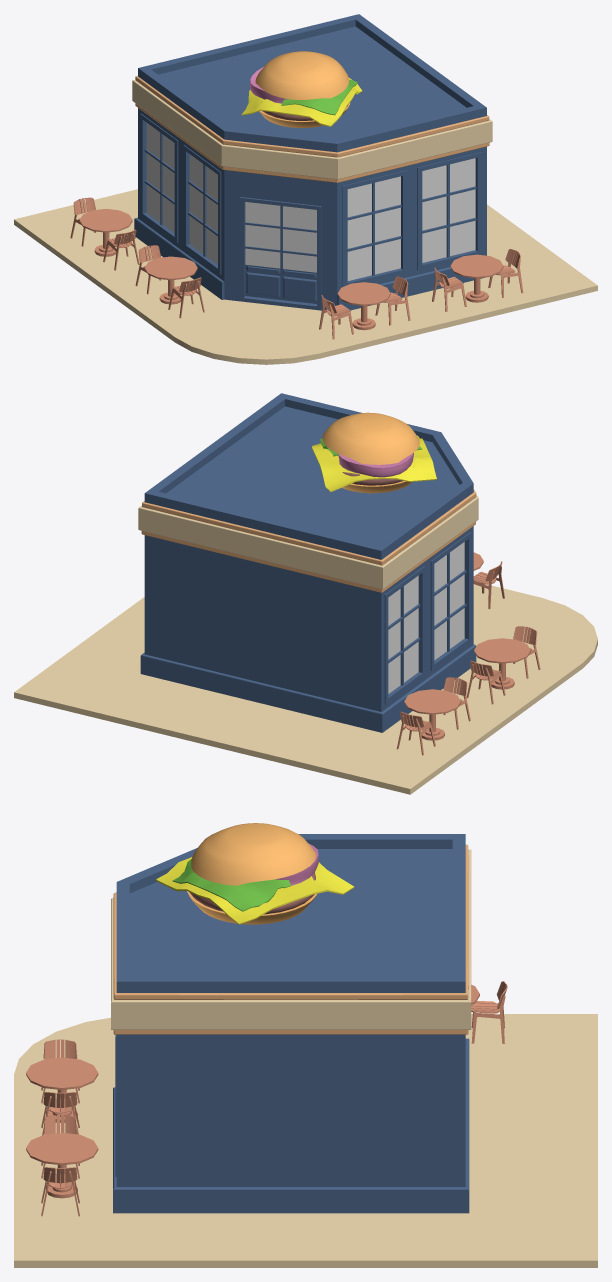
File: commercial-building-fastfood-shop.fbx
3 renders of one model, top to bottom at view 1: azimuth 30°, elevation 25°; view 2: azimuth 150°, elevation 25°; view 3: azimuth 270°, elevation 25°, orthographic. The views are drawn at different scales.
Visible parts, largest first — view 1: commercial-building-fastfood-shop, fastfood-shop-hamburger; view 2: commercial-building-fastfood-shop, fastfood-shop-hamburger; view 3: commercial-building-fastfood-shop, fastfood-shop-hamburger.
Boxes of the visible parts, box(x1,y1,x2,y2) form: commercial-building-fastfood-shop: box(14, 14, 597, 364); fastfood-shop-hamburger: box(241, 51, 362, 128); commercial-building-fastfood-shop: box(14, 393, 597, 794); fastfood-shop-hamburger: box(312, 412, 436, 493); commercial-building-fastfood-shop: box(14, 834, 597, 1267); fastfood-shop-hamburger: box(156, 823, 354, 924).
Bounding box in the file's own units: 12.8 × 7.17 × 12.8.
